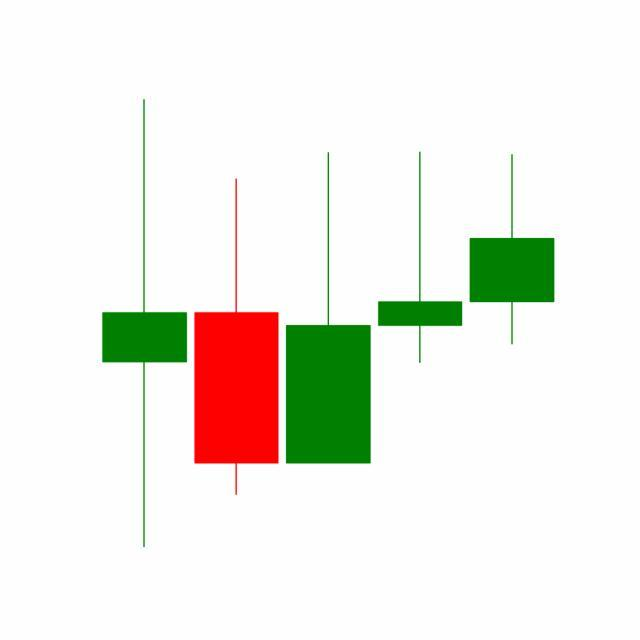Spinning Top: (374, 150, 468, 367)
